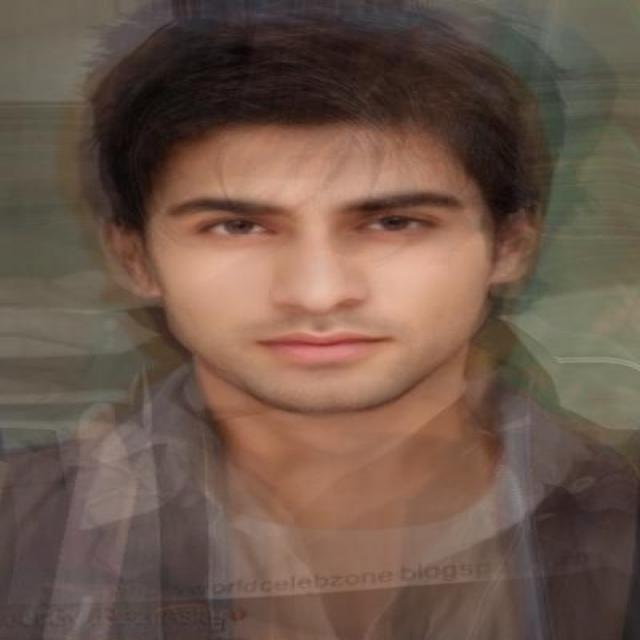earlobe: (134, 275, 167, 301), (488, 258, 520, 284)
eye: (354, 215, 436, 236), (198, 219, 274, 237)
nose: (273, 302, 370, 332)
wholeear: (100, 216, 167, 301), (488, 199, 545, 284)
